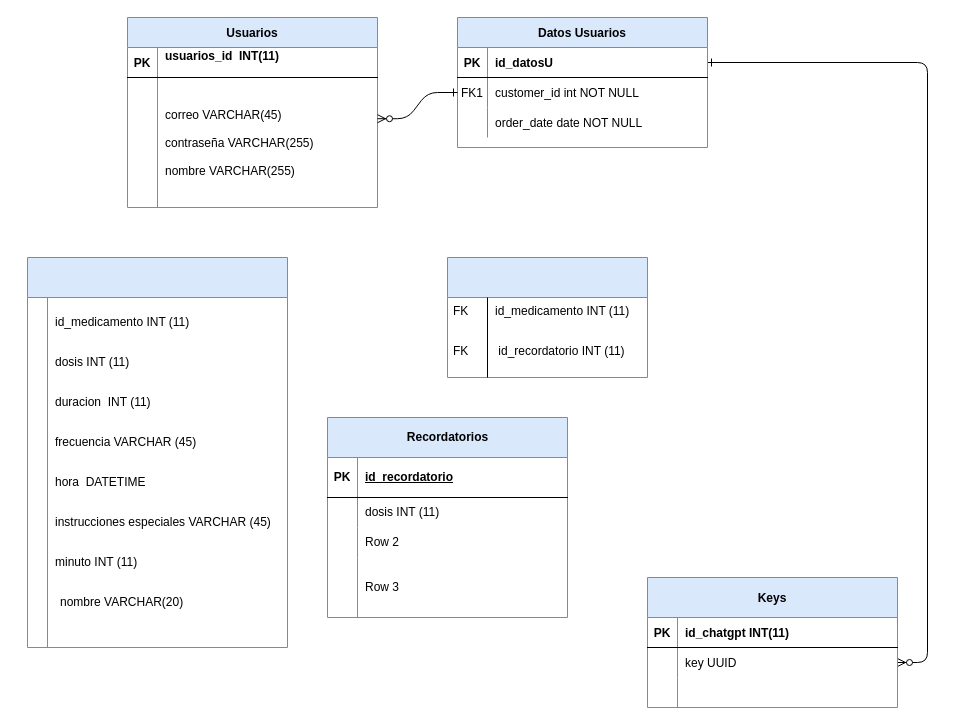
This 954x725 diagram has some shape labels left out. Each missing label, with the box of its shape:
Calendario: (446, 256, 648, 378)
Medicamentos: (26, 256, 288, 648)
